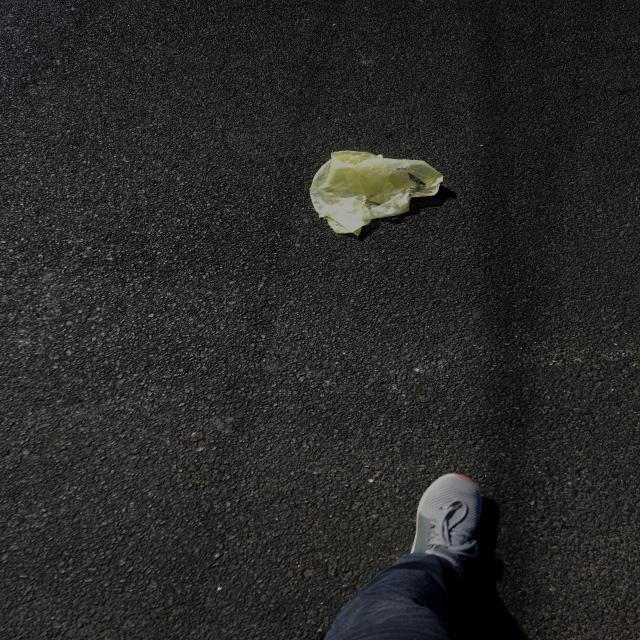Background: (2, 0, 638, 640)
Plastic_Bag: (0, 0, 638, 640), (310, 151, 443, 235)
